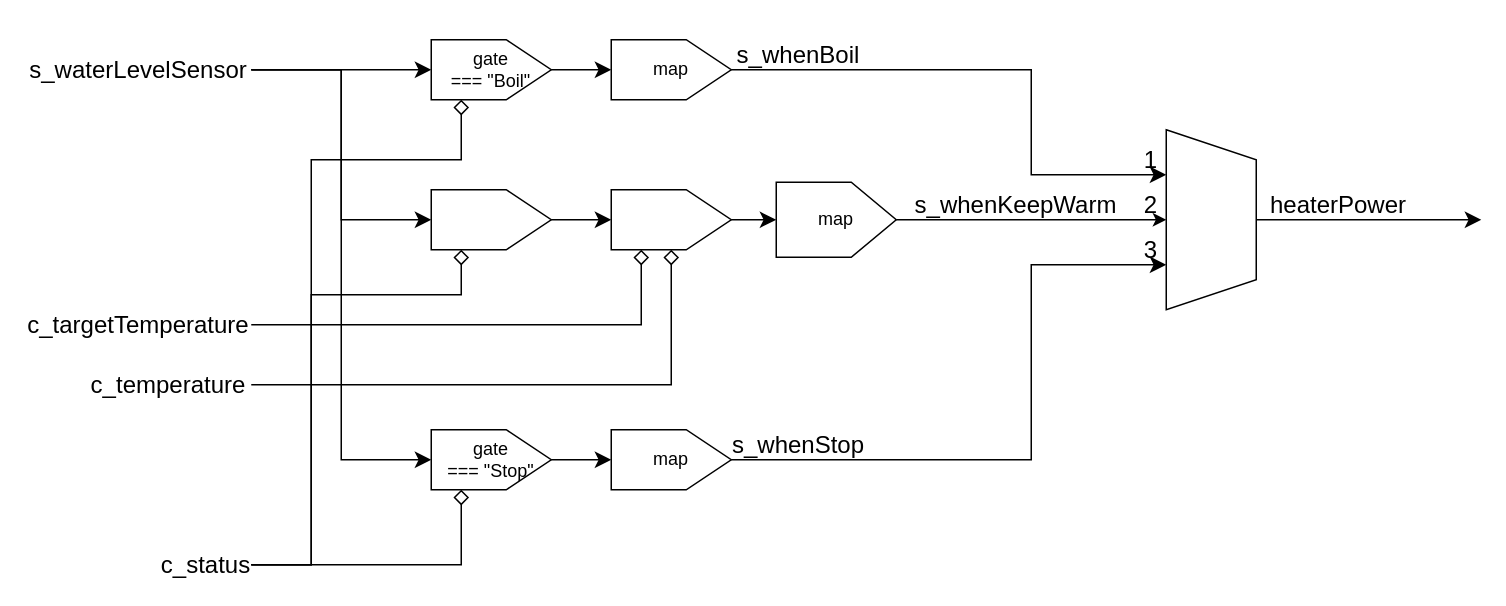
Some shapes in this 1506 by 606 pixel diagram are drawn without their labels. Here are the shapes that lost their labels. From the top down, the centre of each, then its label:
pixel 490 219: gate === "KeepWarm"
pixel 670 219: snapshot3
pixel 1210 219: orElse
